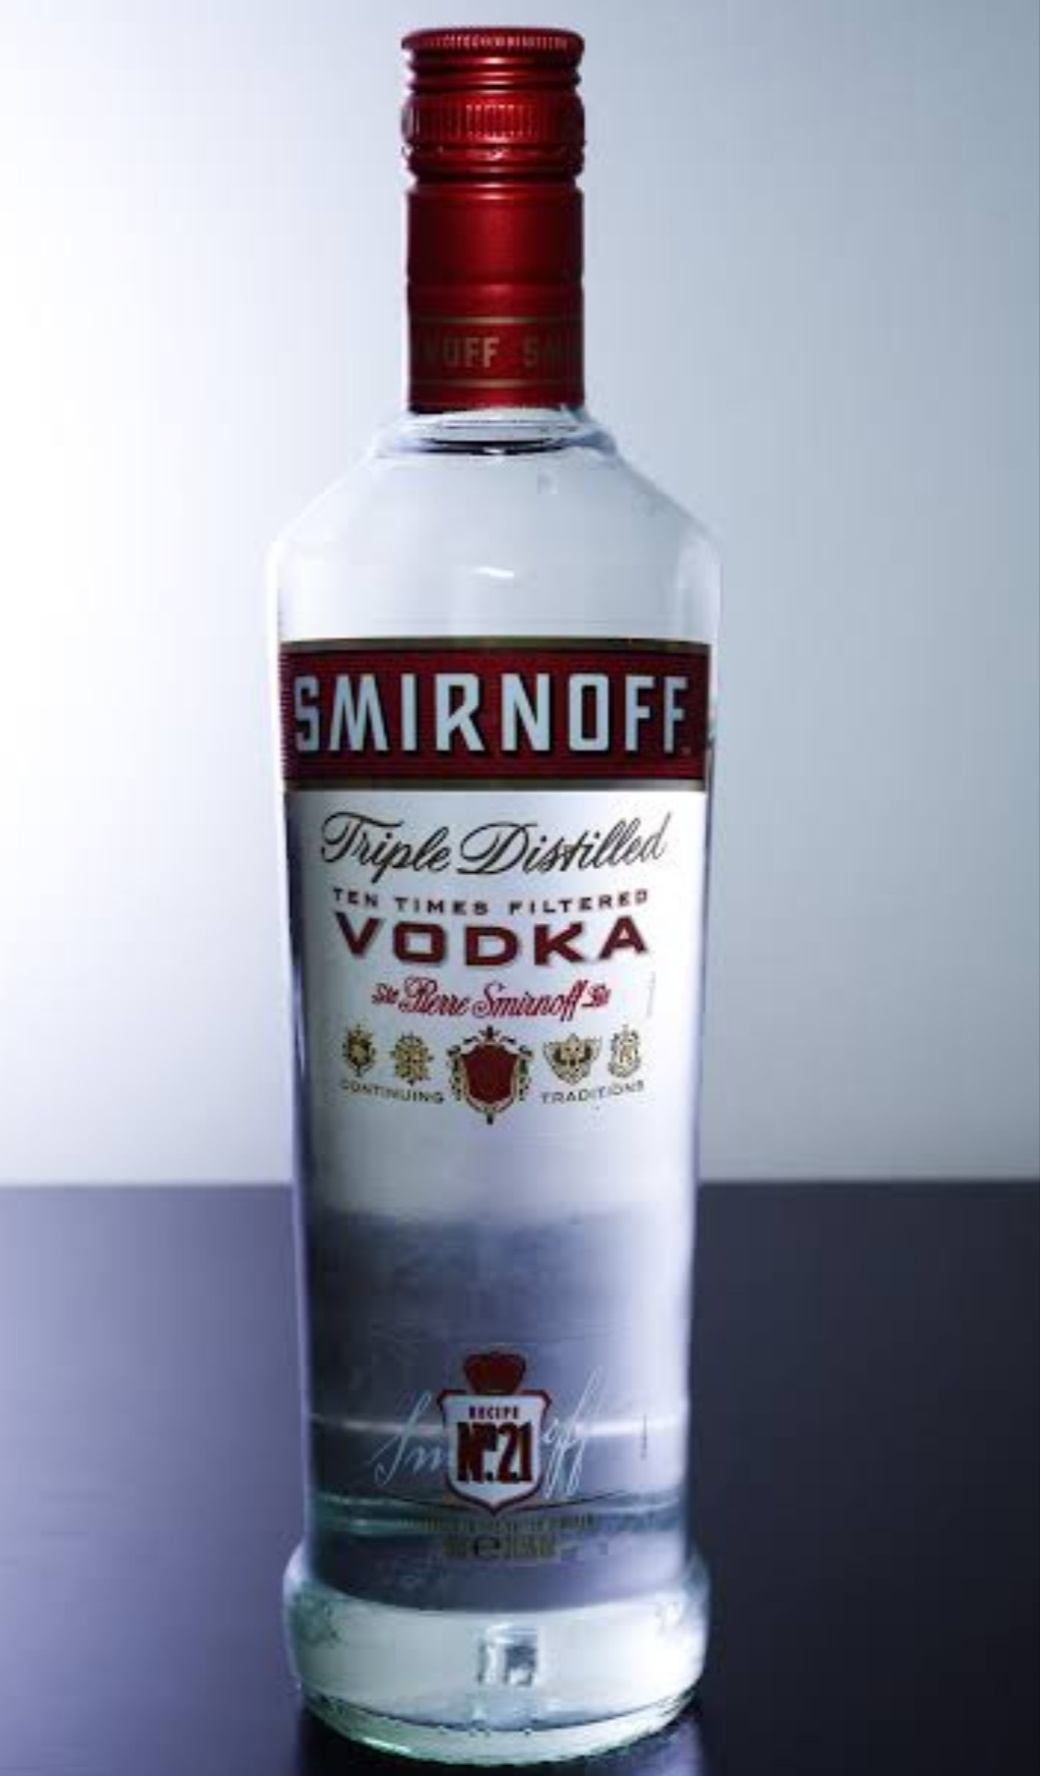glass_bottle: (236, 4, 760, 1776)
